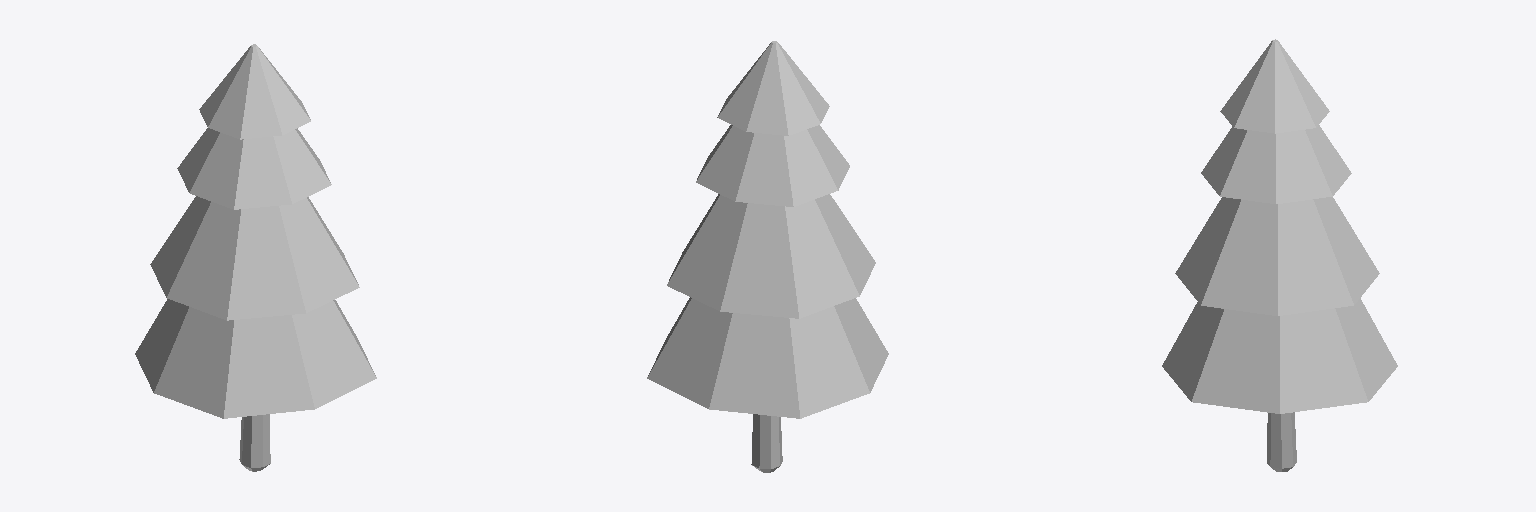
File: christmastree.obj
3 renders of one model, left to right at view 1: azimuth 30°, elevation 25°; view 2: azimuth 150°, elevation 25°; view 3: azimuth 270°, elevation 25°, orthographic.
Visible parts, largest first — view 1: Mesh_0; view 2: Mesh_0; view 3: Mesh_0.
Part boxes in pixels (bbox=[...]): Mesh_0: bbox=[135, 44, 376, 471]; Mesh_0: bbox=[647, 41, 888, 472]; Mesh_0: bbox=[1162, 39, 1397, 471].
Bounding box in the file's own units: 0.3903 × 0.7774 × 0.3903.